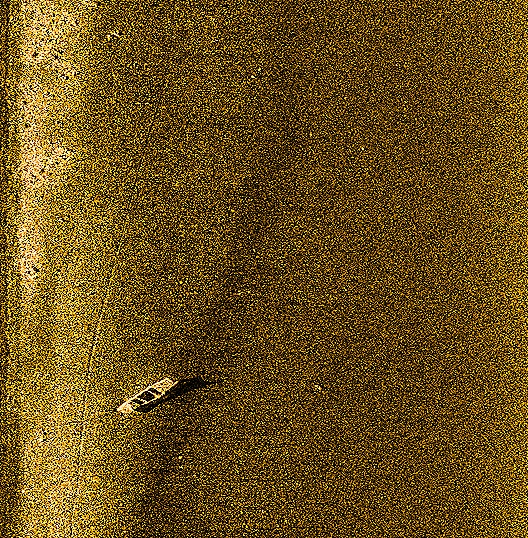ship: (113, 375, 179, 415)
